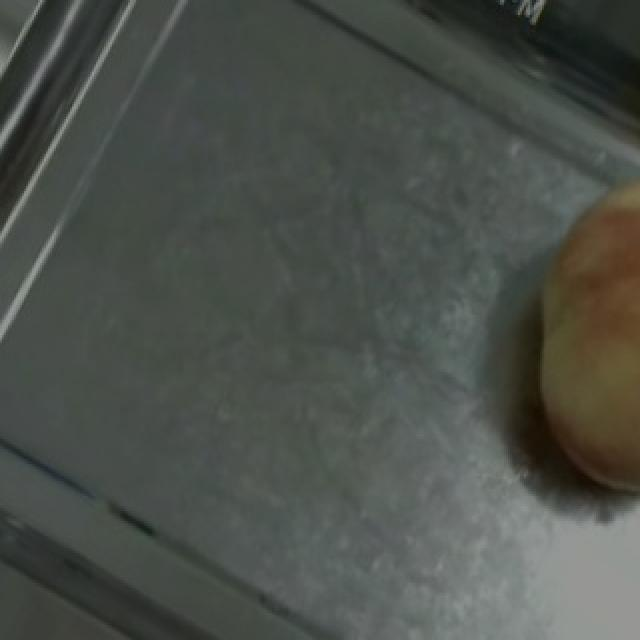Fruit: (486, 144, 640, 533)
